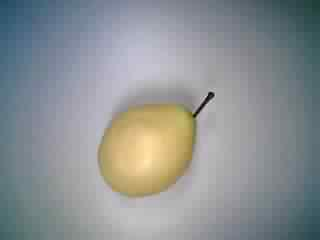pear: (89, 85, 235, 204)
